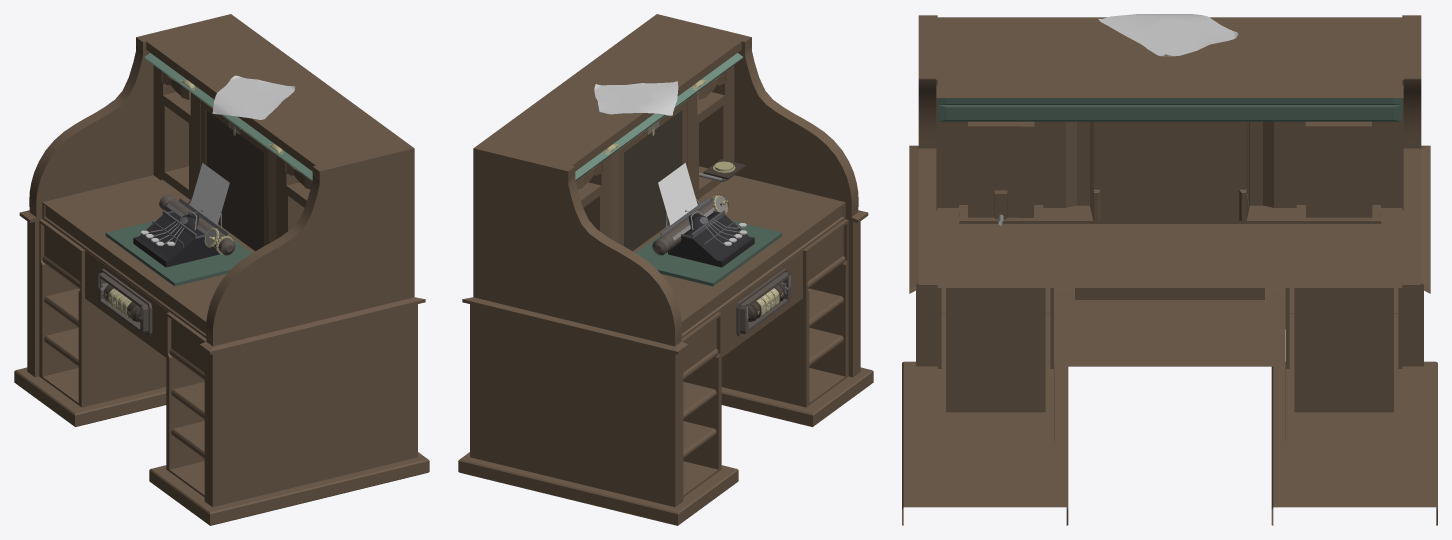
The model's file is science_desk_test.fbx.
3 renders of one model, left to right at view 1: azimuth 30°, elevation 25°; view 2: azimuth 150°, elevation 25°; view 3: azimuth 270°, elevation 25°, orthographic. The views are drawn at different scales.
Visible parts, largest first — view 1: MainDesk_Base, Chessboard_edge, Type_Pedestal, Note_topdesk, Type_Base, flank_1, Type_Paper, Combo_ComboLock_Frame, Type_Additions, Type_Roller; view 2: MainDesk_Base, Chessboard_edge, Type_Pedestal, Note_topdesk, Type_Base, flank_1, Type_Paper, Combo_ComboLock_Frame, Type_Roller, Type_Additions; view 3: MainDesk_Base, flank_13, Note_topdesk, flank_12, flank_14, flank_18.
Boxes of the visible parts, x1,y1,x2,y2 form: MainDesk_Base: (14, 14, 429, 525); Chessboard_edge: (206, 110, 263, 251); Type_Pedestal: (105, 220, 251, 286); Note_topdesk: (212, 75, 295, 119); Type_Base: (133, 212, 219, 267); flank_1: (144, 53, 312, 180); Type_Paper: (190, 163, 229, 225); Combo_ComboLock_Frame: (97, 269, 152, 336); Type_Additions: (152, 198, 228, 247); Type_Roller: (159, 194, 235, 255); MainDesk_Base: (458, 14, 873, 525); Chessboard_edge: (624, 110, 681, 251); Type_Pedestal: (636, 220, 782, 286); Note_topdesk: (594, 81, 678, 115); Type_Base: (668, 212, 754, 267); flank_1: (575, 53, 743, 180); Type_Paper: (658, 163, 697, 225); Combo_ComboLock_Frame: (736, 268, 790, 335); Type_Roller: (652, 194, 728, 255); Type_Additions: (660, 197, 735, 247); MainDesk_Base: (902, 15, 1437, 525); flank_13: (937, 105, 1402, 113); Note_topdesk: (1098, 14, 1238, 56); flank_12: (937, 98, 1402, 104); flank_14: (937, 112, 1402, 121); flank_18: (942, 112, 1397, 120).
Bounding box in the file's own units: 64.32 × 91.13 × 99.08.
